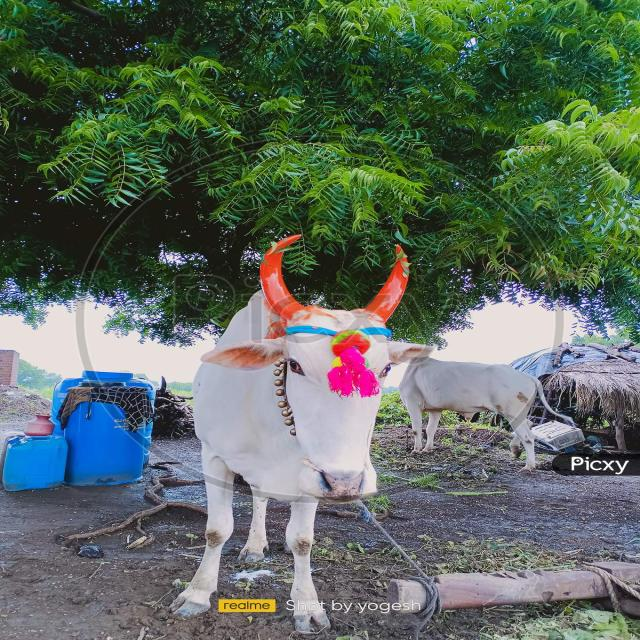Ox: (163, 231, 416, 628)
